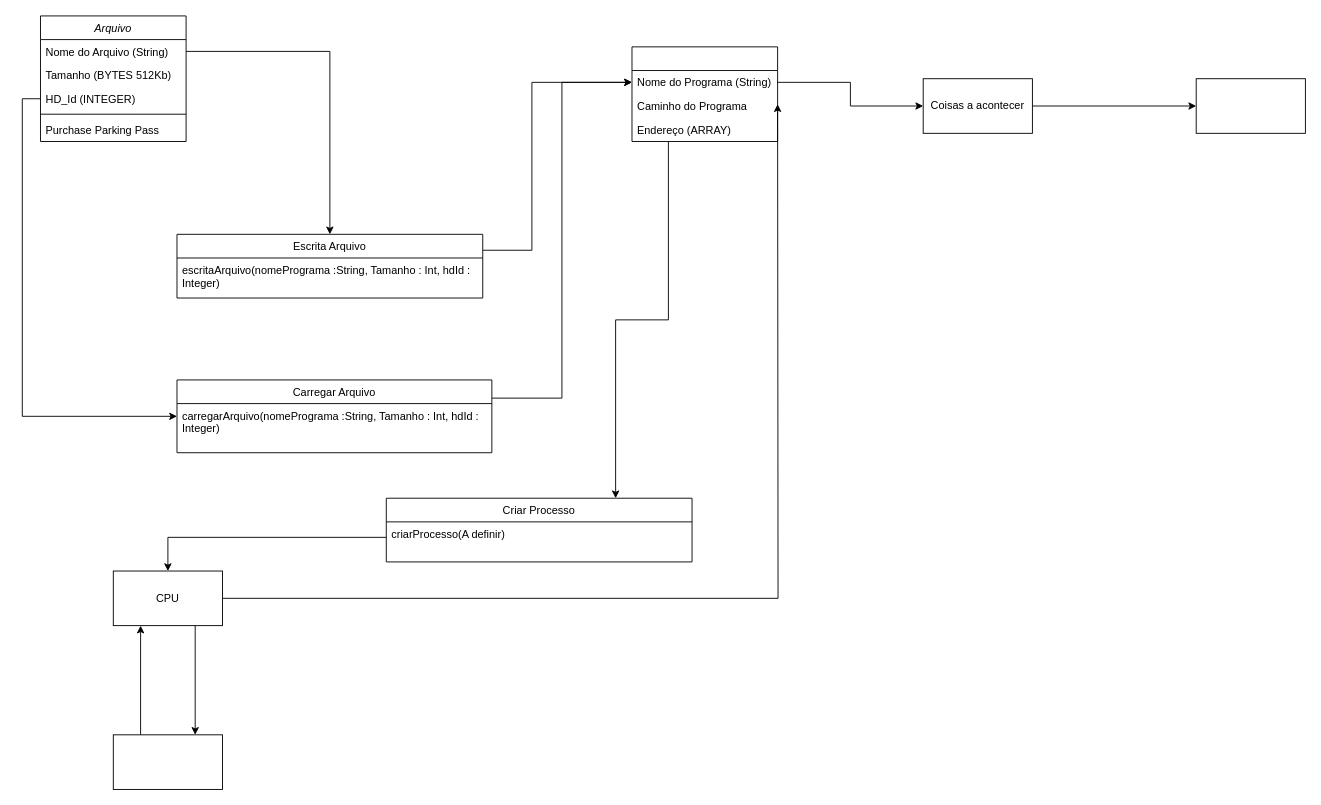
Image size: 1321x805. Some labels were removed from this diagram. Here are the shapes that lost their labels. From the top down, the box of each, then its label:
(631, 46, 778, 142): SGA
(1195, 78, 1305, 133): Video
(112, 734, 222, 789): HD
